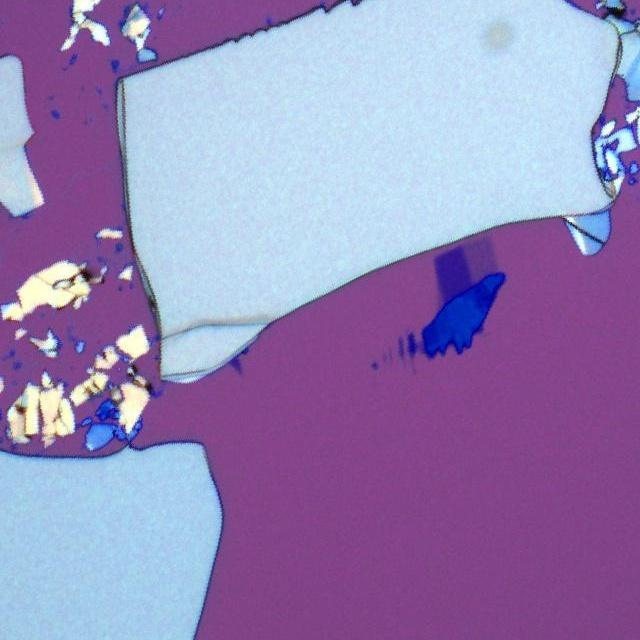monolayer-eWW4: (462, 236, 498, 286)
